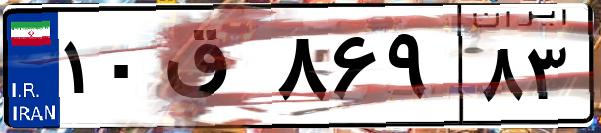0: (110, 28, 158, 98)
1: (57, 26, 110, 100)
3: (525, 38, 570, 115)
6: (330, 28, 385, 110)
8: (270, 28, 330, 110), (475, 38, 525, 113)
9: (385, 28, 445, 110)
ق: (158, 20, 270, 120)
